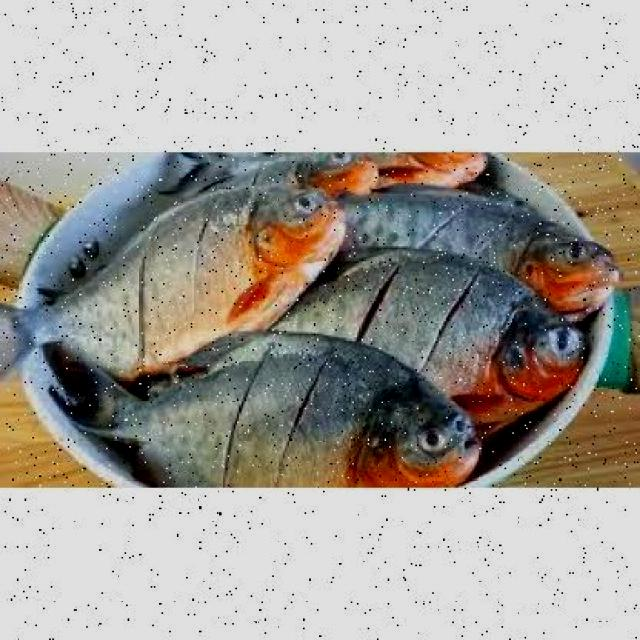ikan-pacu: (79, 336, 481, 486), (34, 180, 348, 358), (340, 260, 589, 420), (388, 188, 616, 304)
